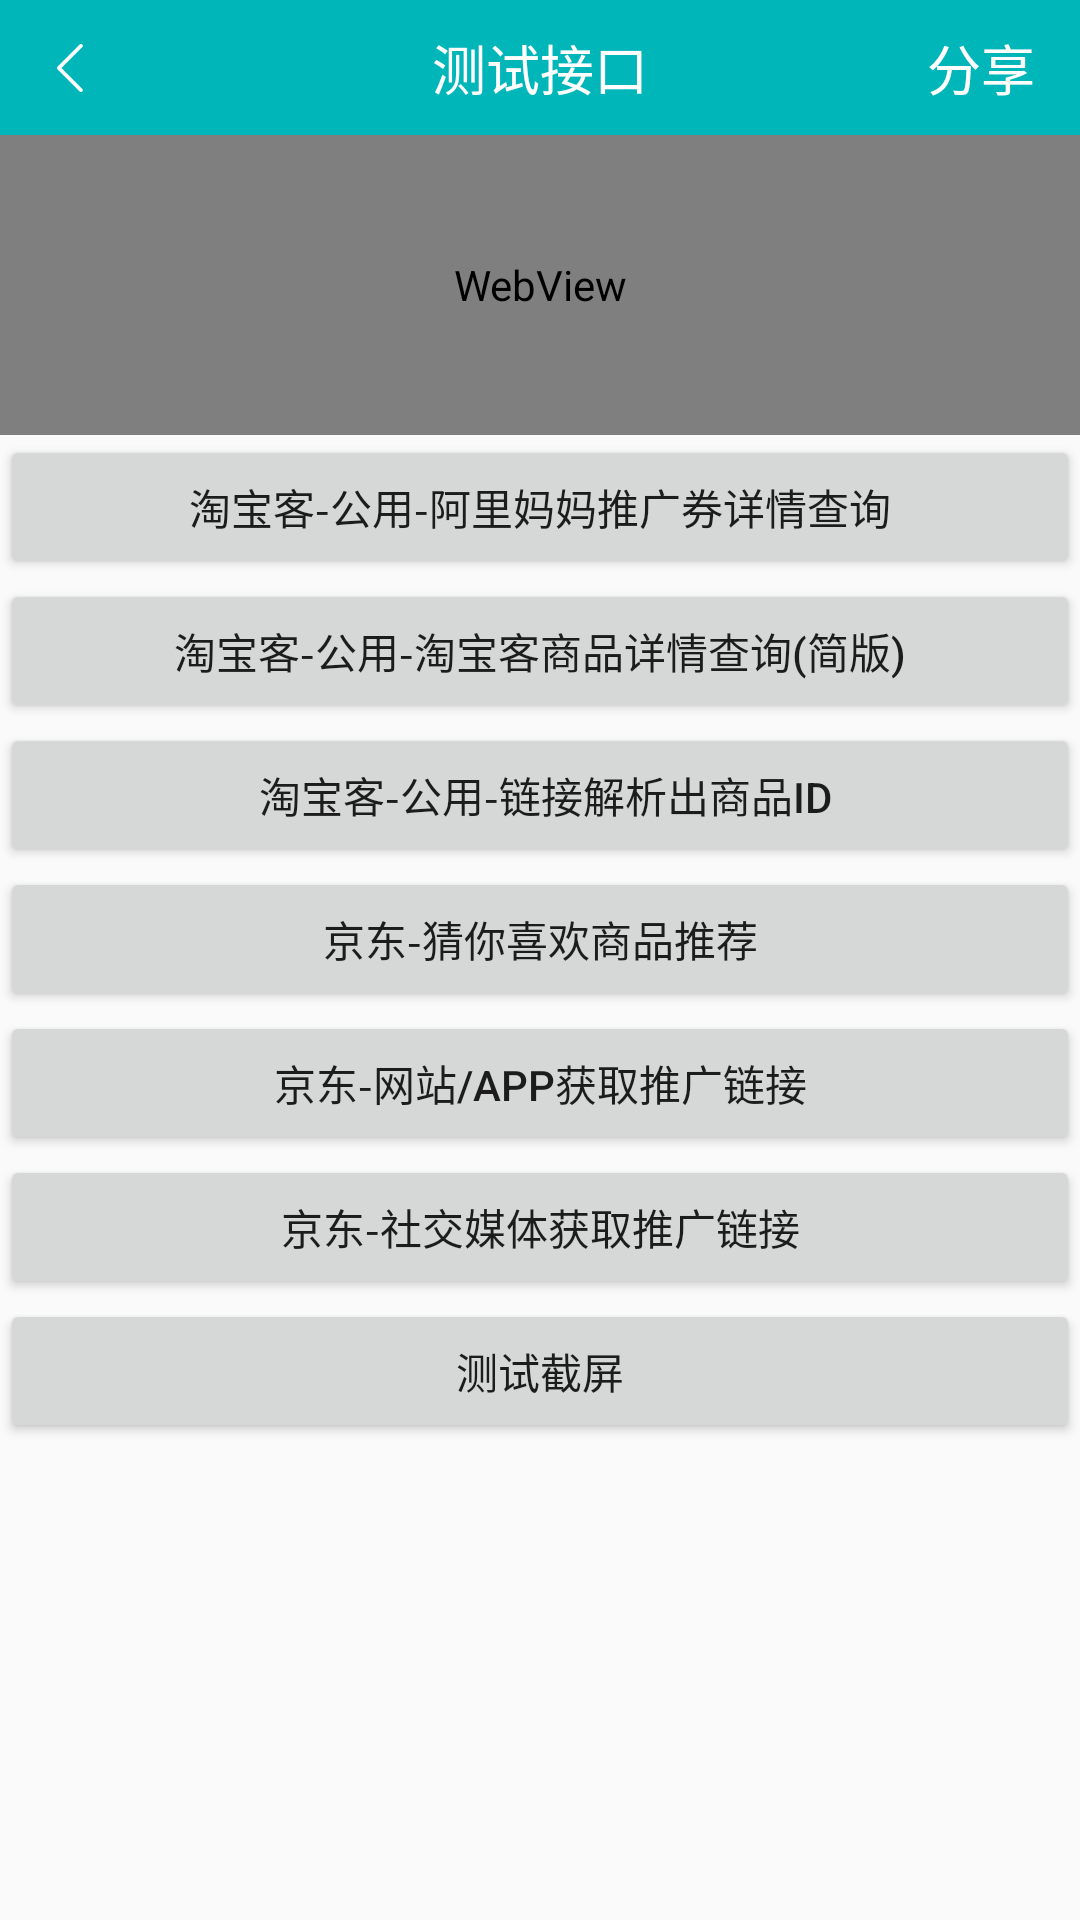

Icons on this 1080 x 1920 Android screen, each with the point to tap as point (x, y):
return: point (70, 68)
